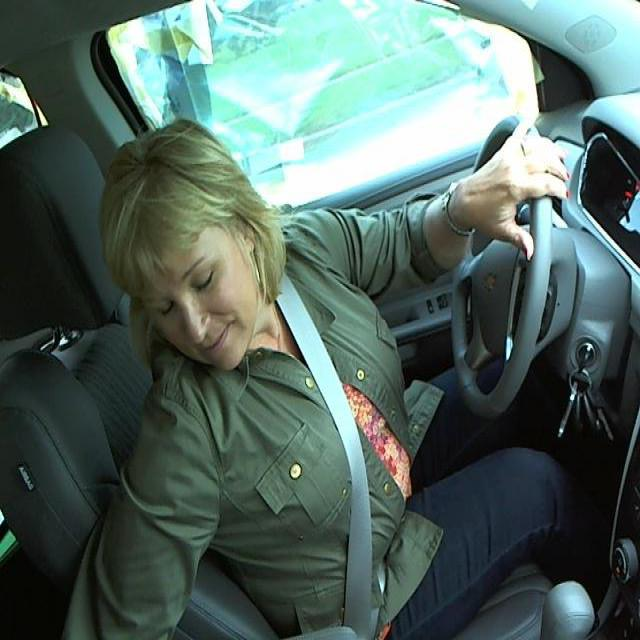seatbelt: (274, 298, 398, 626)
